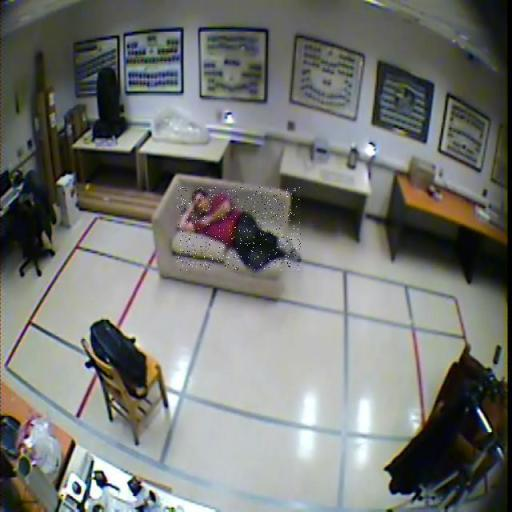Fall: (177, 188, 301, 271)
